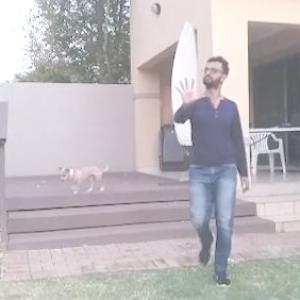follow_hand: (171, 72, 202, 108)
